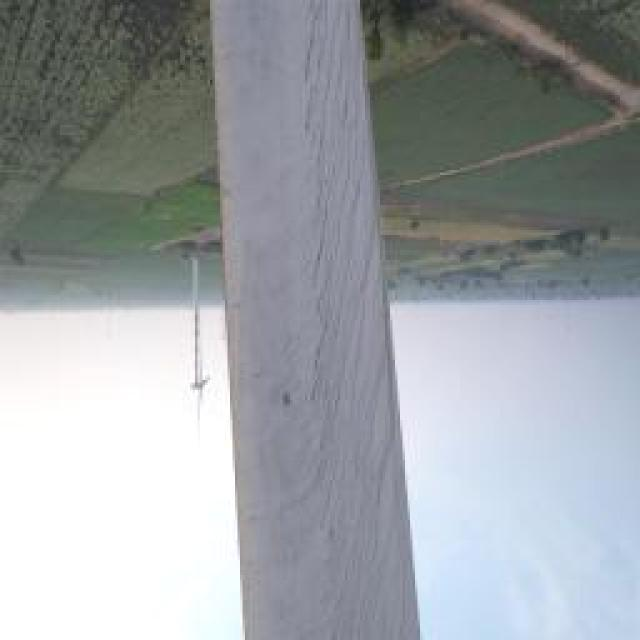Dirt: (304, 0, 424, 640)
Pin Hole: (279, 388, 295, 411)
